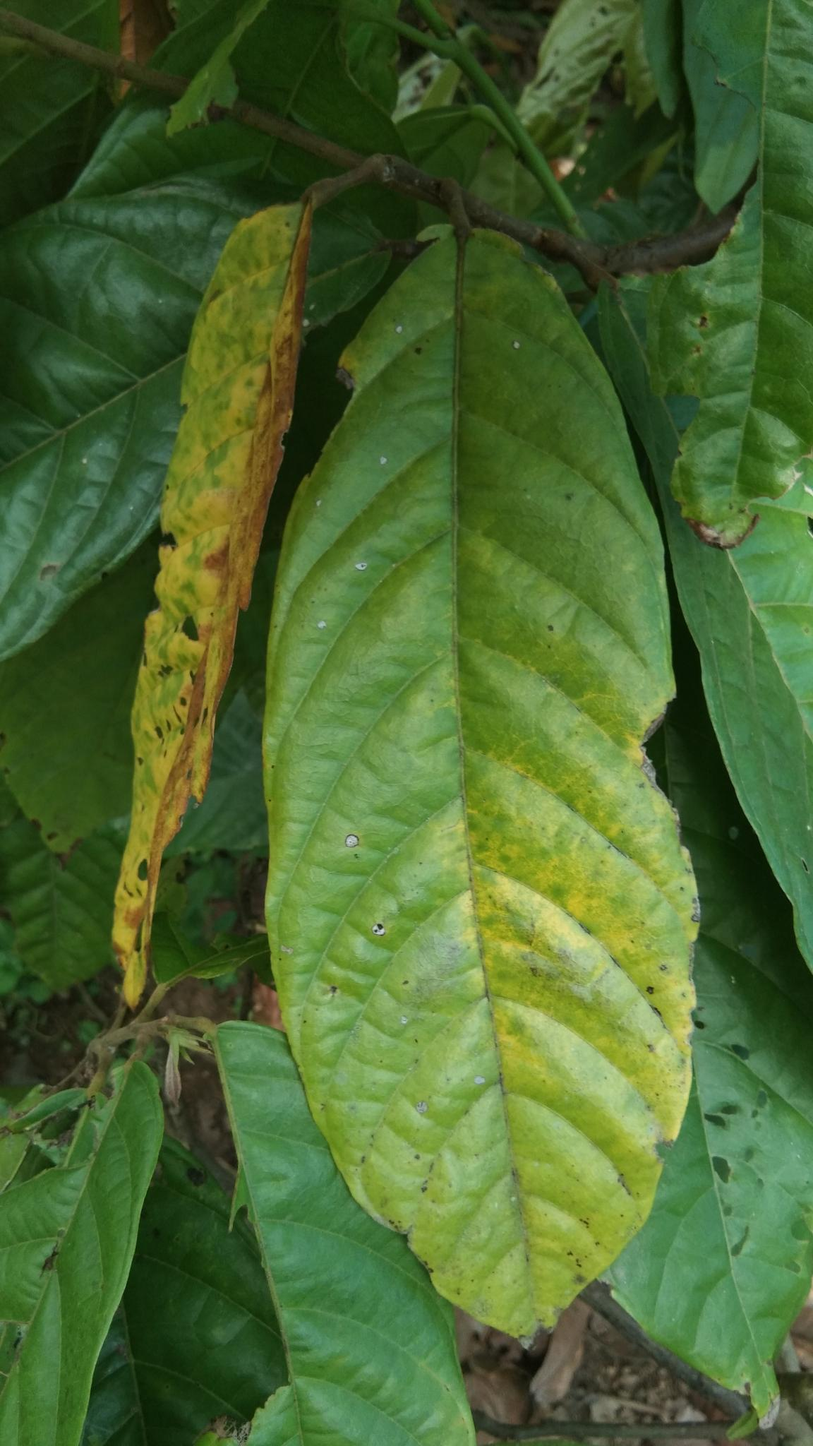Fosforo: (243, 222, 698, 1321), (113, 203, 312, 1005)
